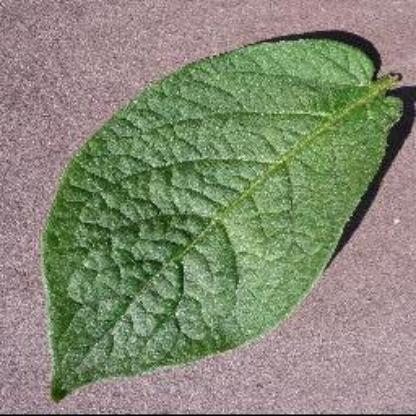Healthy-plant: (43, 31, 401, 408)
